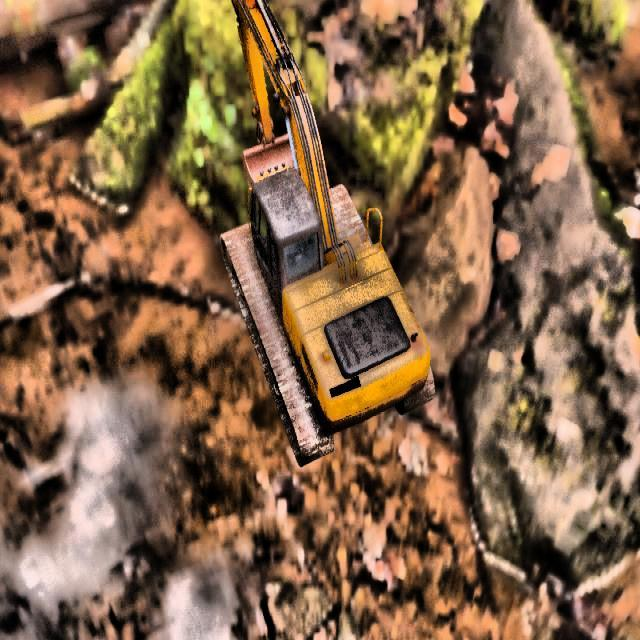excavator: (219, 0, 435, 468)
